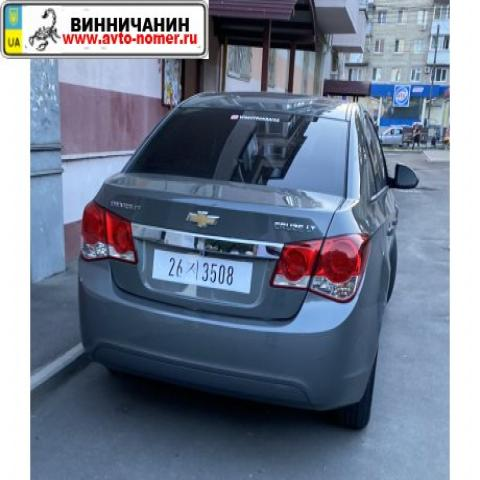LP: (144, 236, 263, 310)
